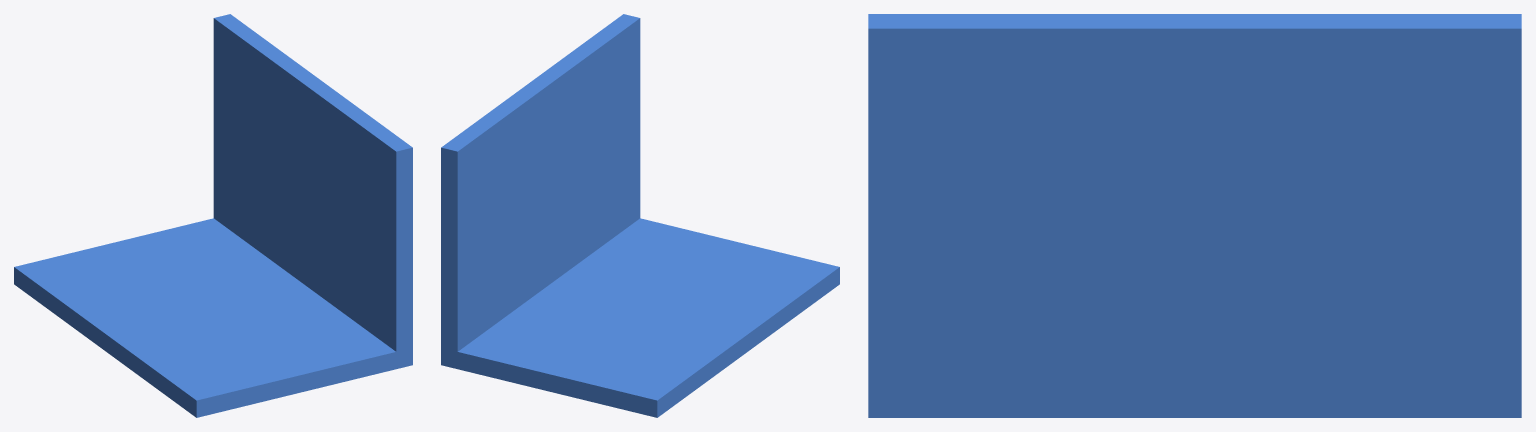
The picture shows the model from 3 angles, left to right: view 1: azimuth 30°, elevation 25°; view 2: azimuth 150°, elevation 25°; view 3: azimuth 270°, elevation 25°; orthographic projection. The views are drawn at different scales.
Bounding box in the file's own units: 0.26 × 0.25 × 0.38.
